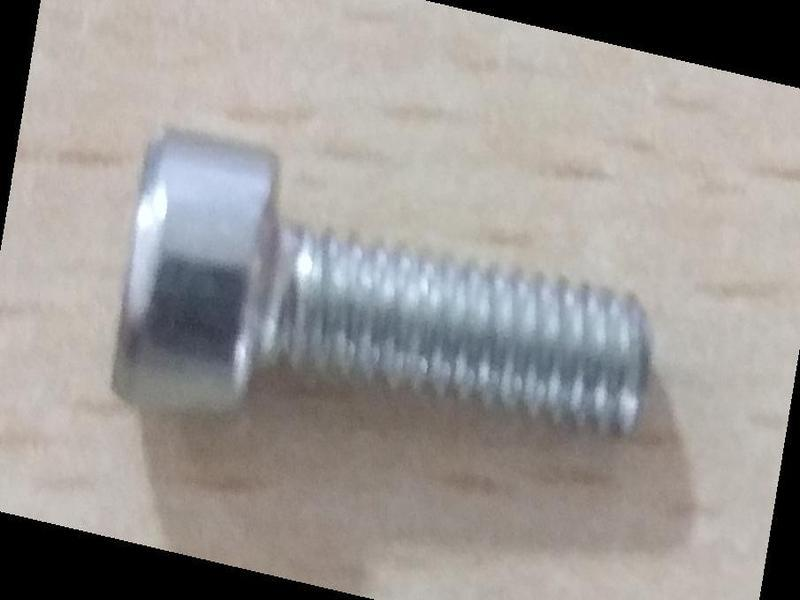smallscrew: (87, 106, 666, 496)
